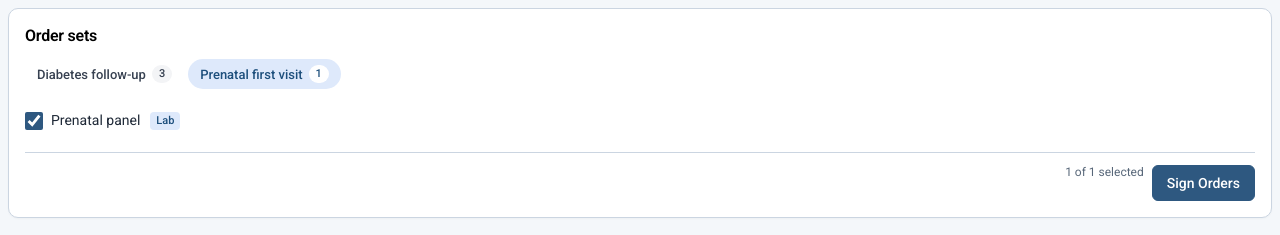
OrderSetPicker › disables Sign Orders when nothing is ticked
The width and height of the screenshot is (1280, 235).
Click the checkbox labelled "Prenatal panel" at x=34, y=121, box [25,112,43,130]
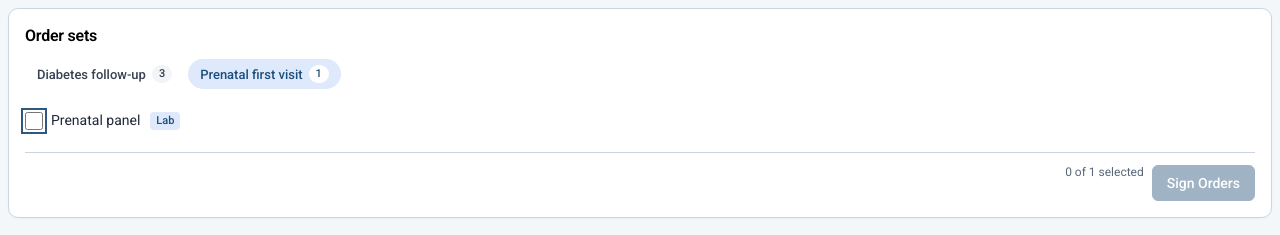
Result: the button "Sign Orders" is disabled at [1152,165,1255,201]
